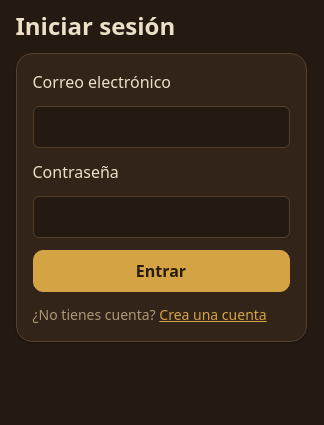
Test: LoginPage › keeps the port untouched while the form is invalid
The image size is (324, 425).
Click the button "Entrar" at (161, 271), box x1=32 y1=250 x2=290 y2=292
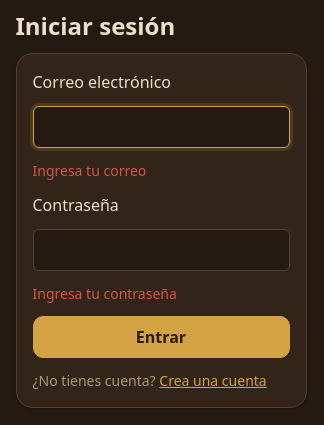
expect the text "Ingresa tu correo" is shown: met, box x1=32 y1=161 x2=146 y2=180
